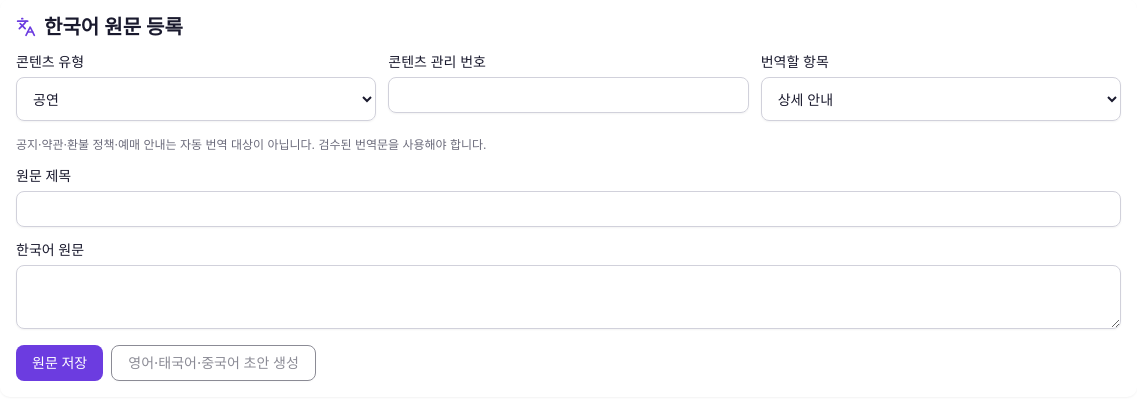
Test: admin translation review workflow › does not generate translations from a saved source after its text changes
In the field labelled "콘텐츠 관리 번호": [568, 95] box [388, 77, 749, 113], type "performance-1"
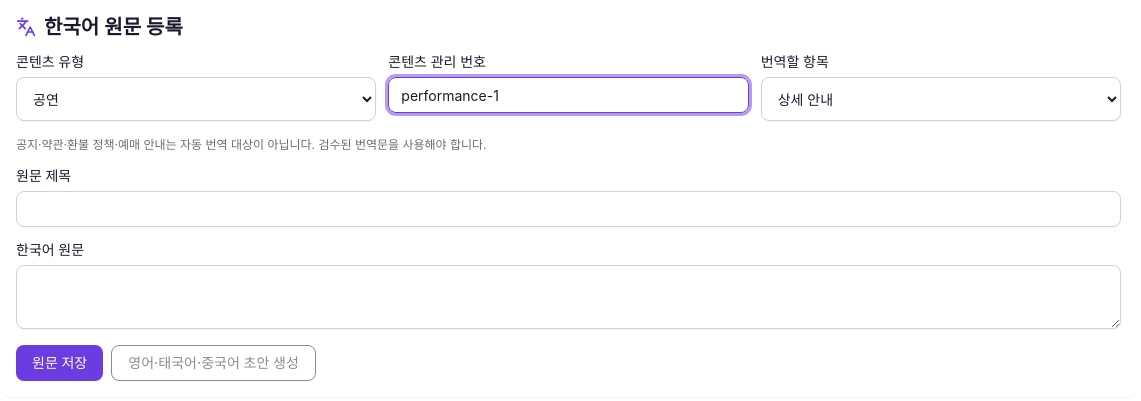
In the field labelled "원문 제목": [568, 209] box [16, 191, 1121, 227], type "공연 안내"
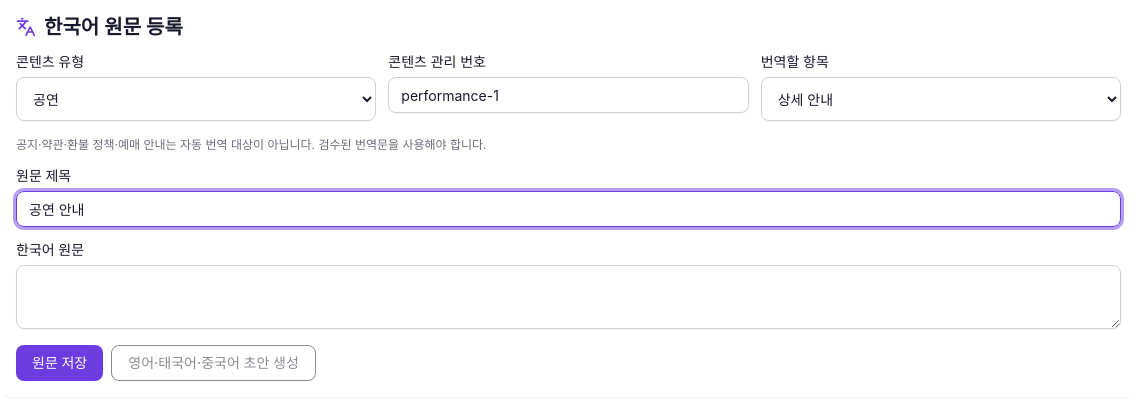
In the text box labelled "한국어 원문": [568, 297] box [16, 265, 1121, 329], type "이전 원문"
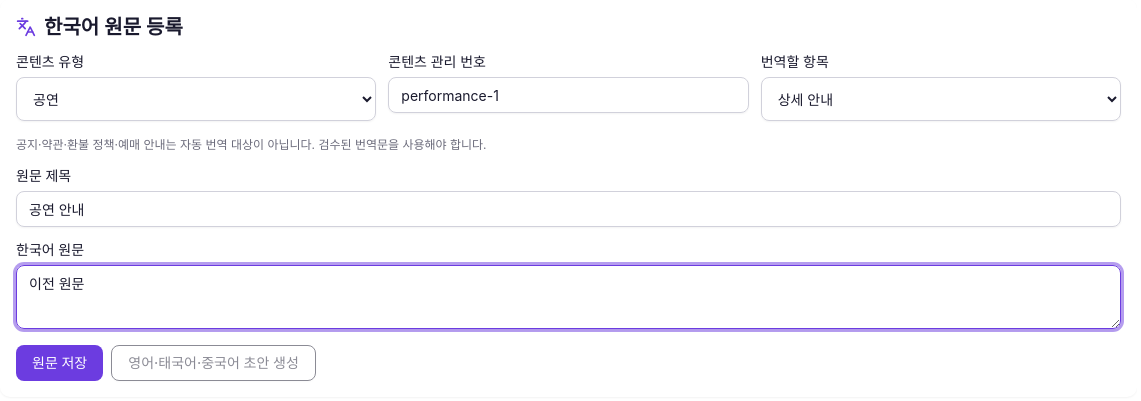
Click the button "원문 저장": [60, 363] box [16, 345, 103, 381]
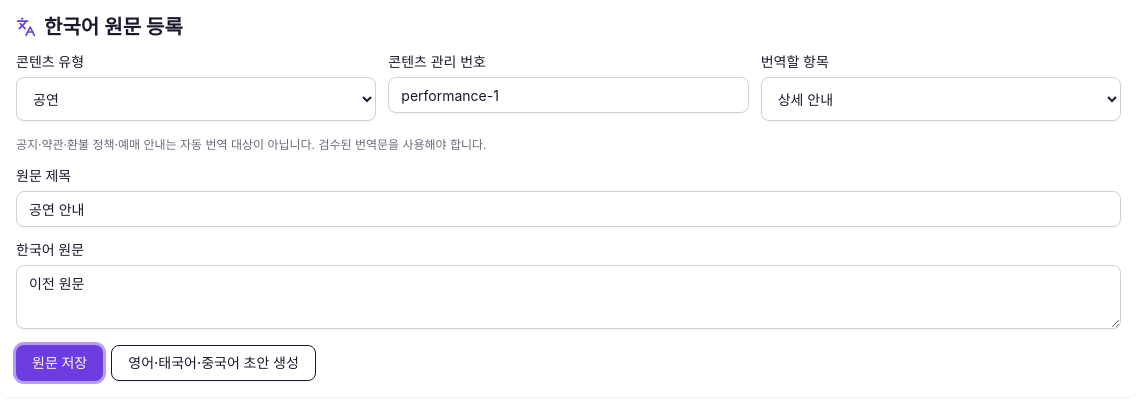
Expected: the button "영어·태국어·중국어 초안 생성" is enabled, [111, 345, 316, 381]
In the text box labelled "한국어 원문": [568, 297] box [16, 265, 1121, 329], type " 수정"
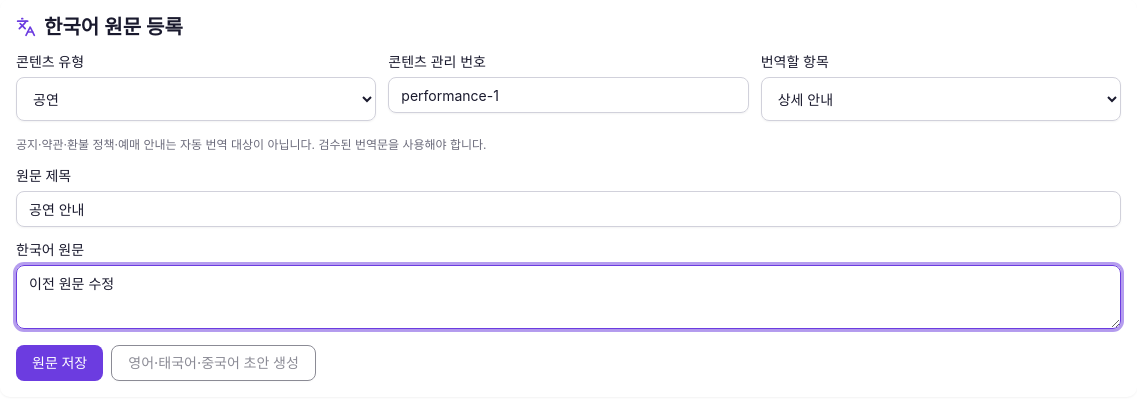
Expected: the button "영어·태국어·중국어 초안 생성" is disabled, [111, 345, 316, 381]
